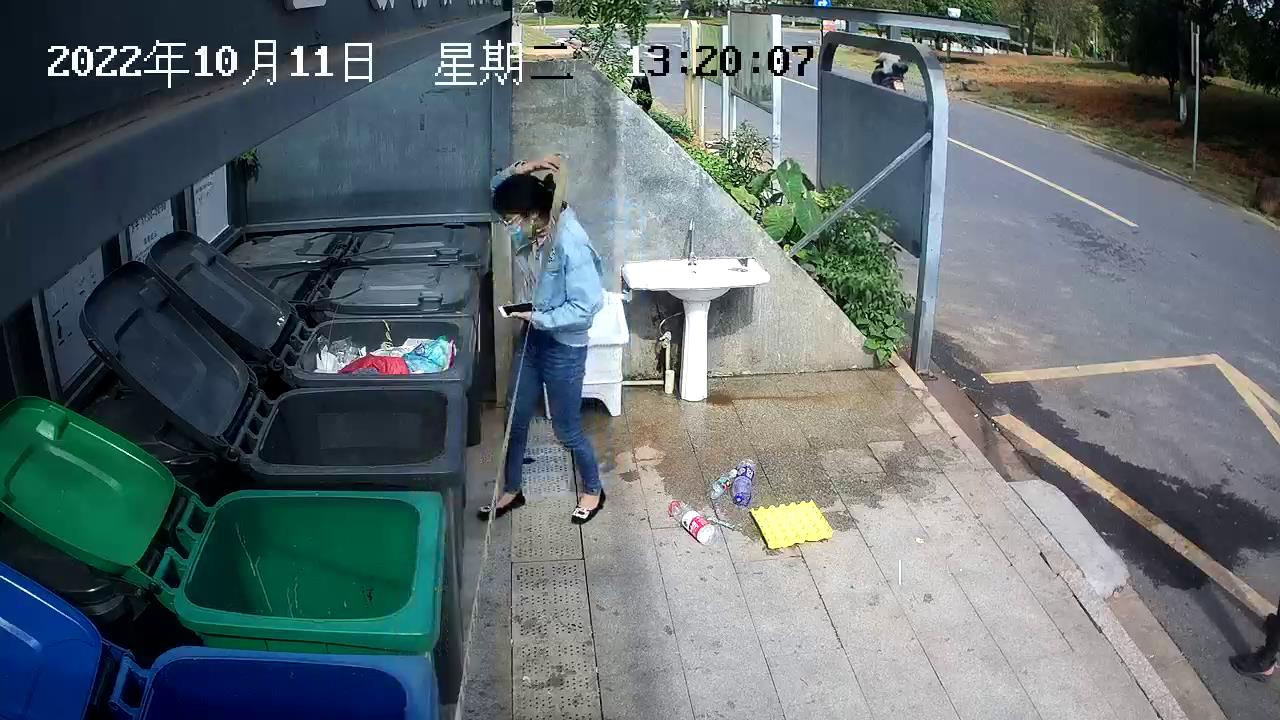suliaozhipin: (663, 495, 720, 550), (728, 452, 758, 506), (704, 465, 738, 500)
worker: (469, 148, 612, 529)
zhizhipin: (746, 495, 838, 555)
